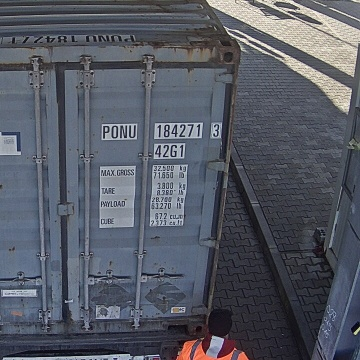serial_id: (103, 124, 220, 138)
